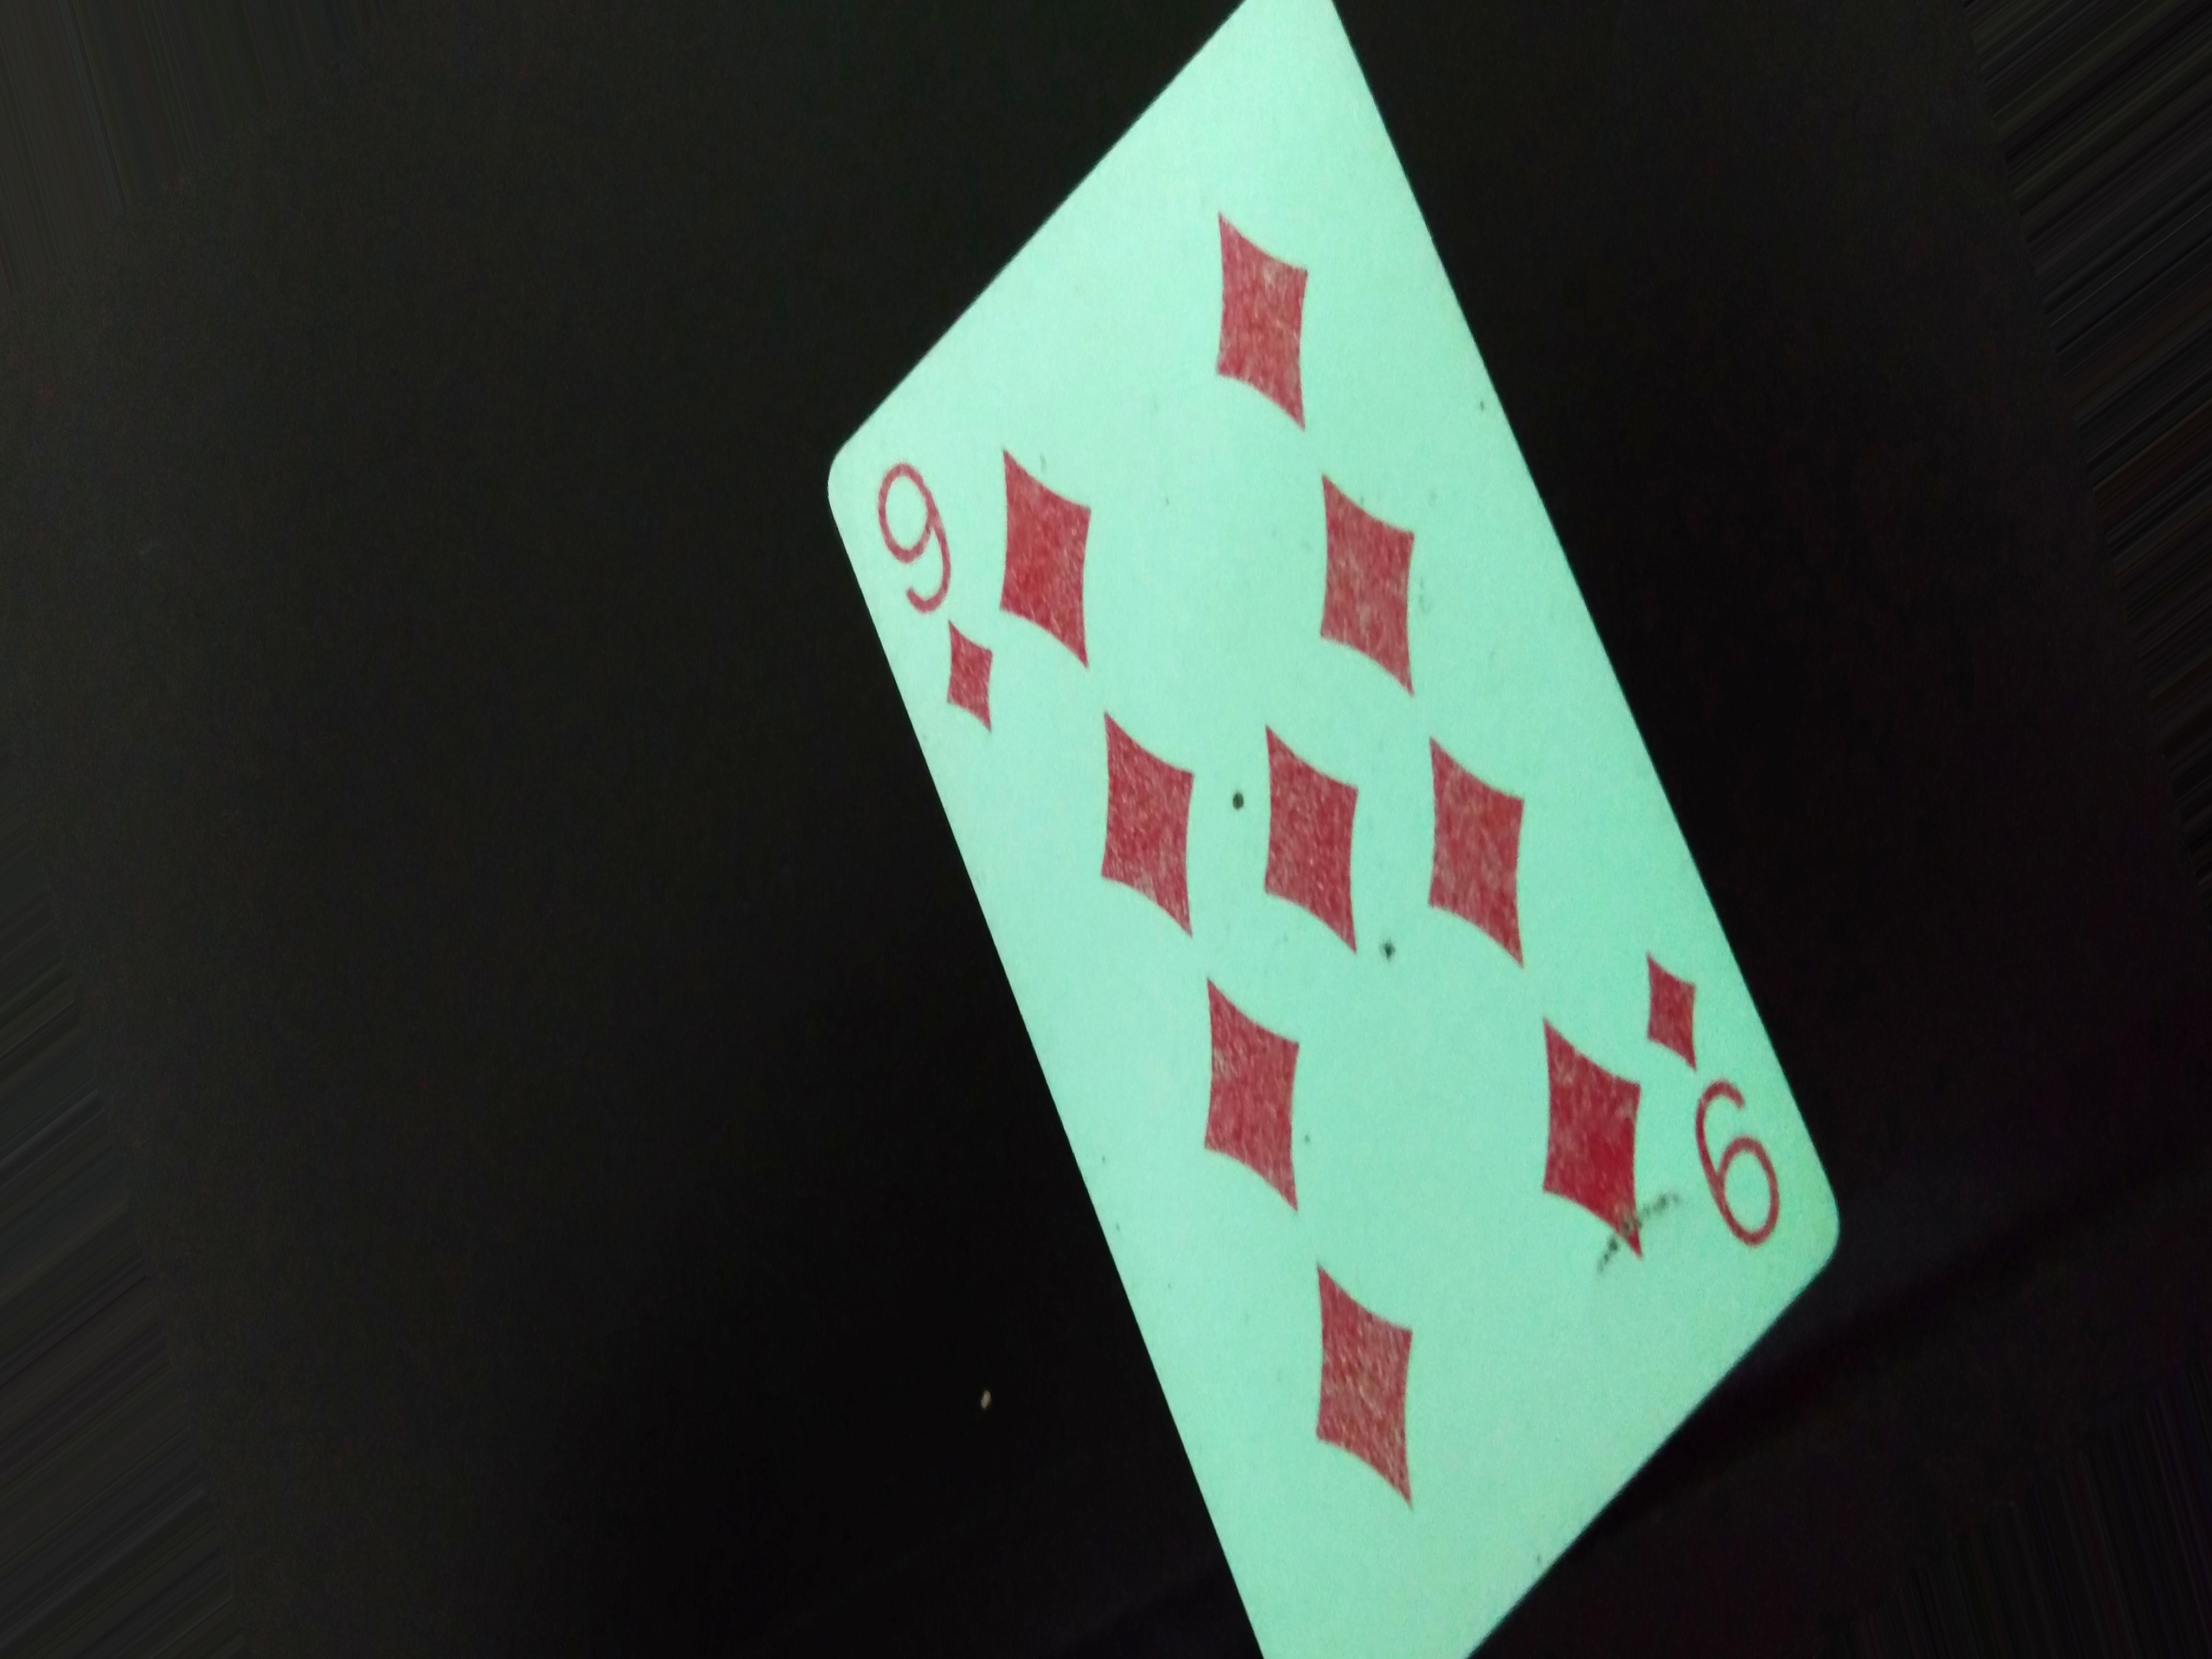9D: (855, 444, 1019, 742)
